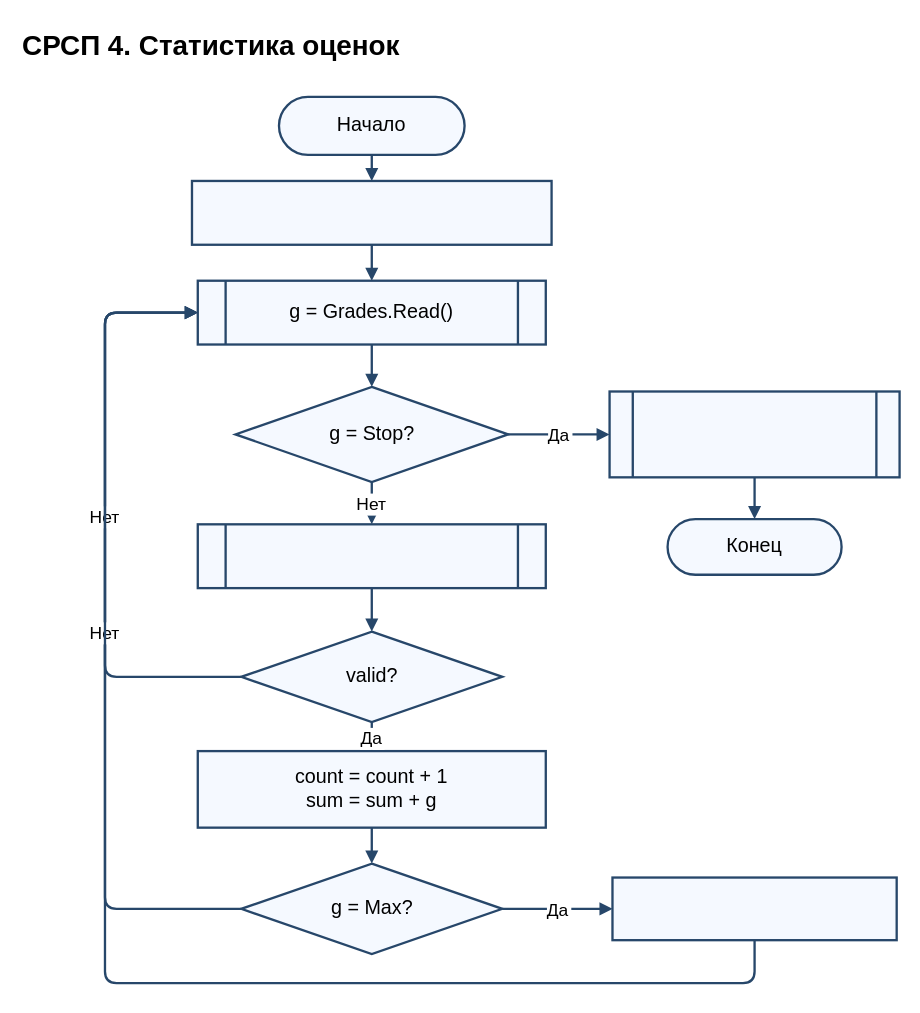
Image size: 920x1013. Some labels were removed from this diagram. Here are the shapes that lost their labels. From the top down, the centre of each, then its label:
At point 371,212: "count = 0, sum = 0, fives = 0".
At point 754,434: "Grades.PrintStats( count, sum, fives)".
At point 371,556: "valid = Grades.IsValid(g)".
At point 754,908: "fives = fives + 1".
